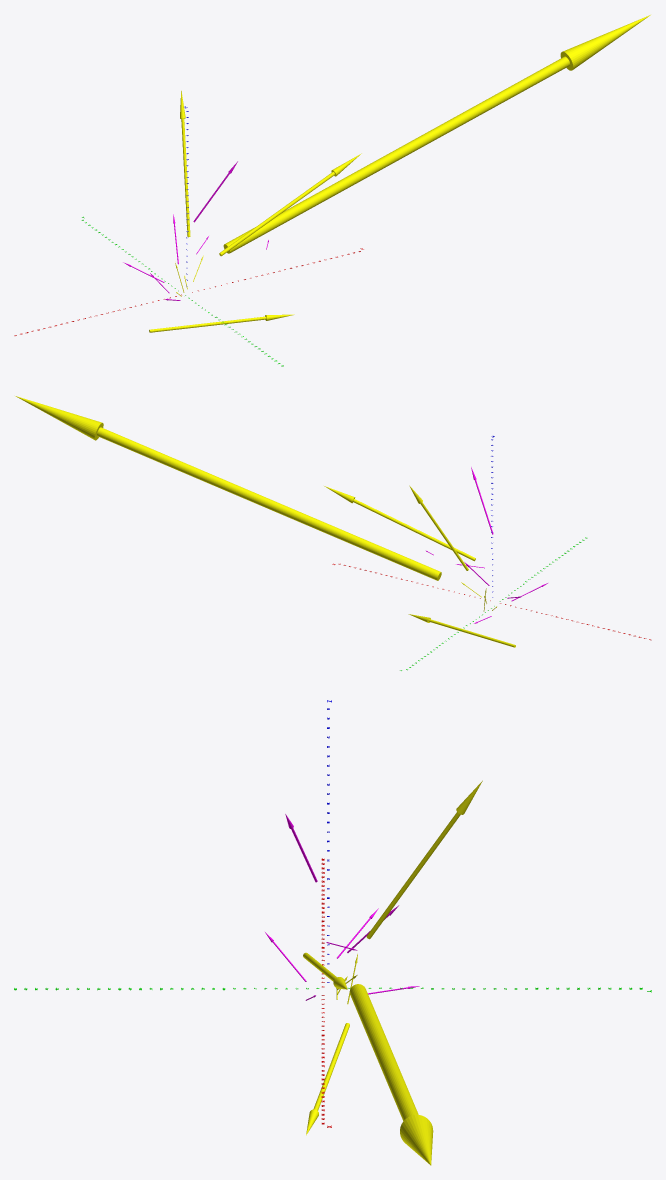
Rendered from campo_vectores.glb.
3 renders of one model, top to bottom at view 1: azimuth 30°, elevation 25°; view 2: azimuth 150°, elevation 25°; view 3: azimuth 270°, elevation 25°, orthographic. The views are drawn at different scales.
Parts seen in each view (by area): view 1: F_8, F_7, F_9, F_6; view 2: F_8, F_7; view 3: F_8, F_6, F_9.
Boxes of the visible parts, x1,y1,x2,y2 form: F_8: [223, 15, 650, 253]; F_7: [219, 153, 361, 256]; F_9: [149, 314, 294, 332]; F_6: [180, 90, 190, 237]; F_8: [15, 396, 441, 580]; F_7: [324, 486, 475, 561]; F_8: [350, 984, 433, 1165]; F_6: [366, 780, 482, 939]; F_9: [306, 1023, 349, 1135].
Size of the model in its own units: 117 by 37.99 by 61.18.
